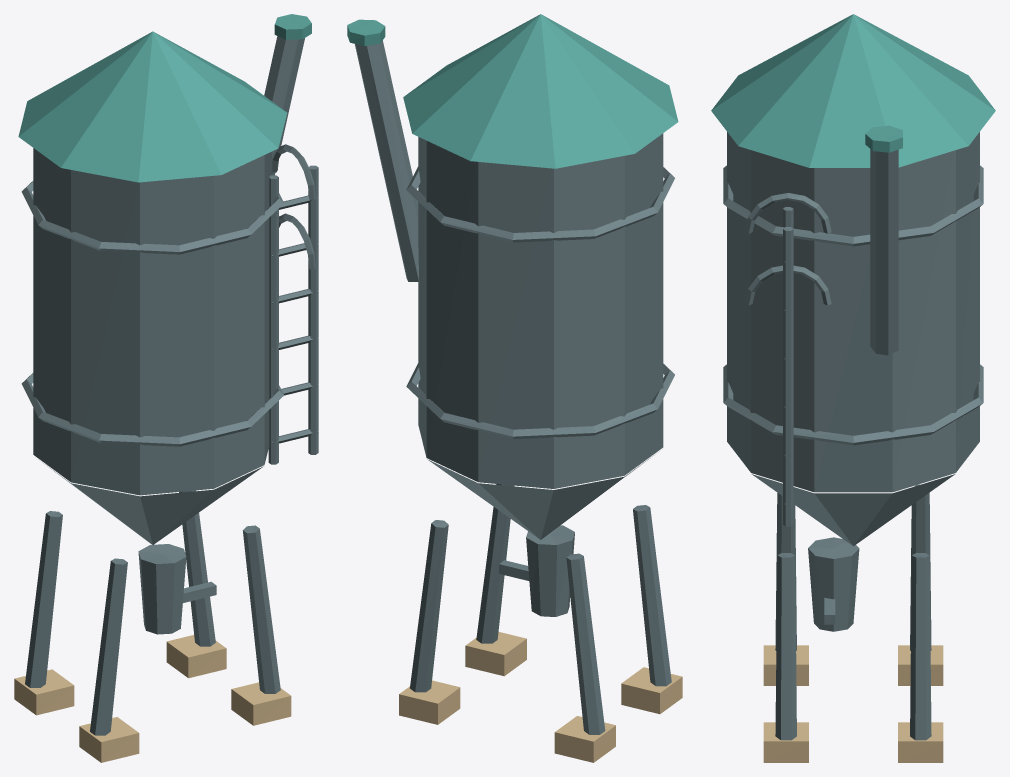
Rendered from Silo.glb.
3 renders of one model, left to right at view 1: azimuth 30°, elevation 25°; view 2: azimuth 150°, elevation 25°; view 3: azimuth 270°, elevation 25°, orthographic. The views are drawn at different scales.
Parts seen in each view (by area): view 1: wind-pump-static-silo-galvanized, wind-pump-static-silo-roof, wind-pump-static-silo-dark-steel, wind-pump-static-silo-stone-feet; view 2: wind-pump-static-silo-galvanized, wind-pump-static-silo-roof, wind-pump-static-silo-dark-steel, wind-pump-static-silo-stone-feet; view 3: wind-pump-static-silo-galvanized, wind-pump-static-silo-roof, wind-pump-static-silo-dark-steel, wind-pump-static-silo-stone-feet.
Boxes of the visible parts, <box> form: wind-pump-static-silo-galvanized: <box>33,36,304,634</box>; wind-pump-static-silo-roof: <box>18,14,311,182</box>; wind-pump-static-silo-dark-steel: <box>21,144,318,735</box>; wind-pump-static-silo-stone-feet: <box>14,635,291,762</box>; wind-pump-static-silo-galvanized: <box>355,40,663,616</box>; wind-pump-static-silo-roof: <box>347,14,678,168</box>; wind-pump-static-silo-dark-steel: <box>406,166,674,734</box>; wind-pump-static-silo-stone-feet: <box>399,632,682,762</box>; wind-pump-static-silo-galvanized: <box>727,132,979,631</box>; wind-pump-static-silo-roof: <box>711,14,995,167</box>; wind-pump-static-silo-dark-steel: <box>723,165,983,740</box>; wind-pump-static-silo-stone-feet: <box>763,645,943,762</box>.
Bounding box in the file's own units: 1.73 × 3.91 × 1.44.
